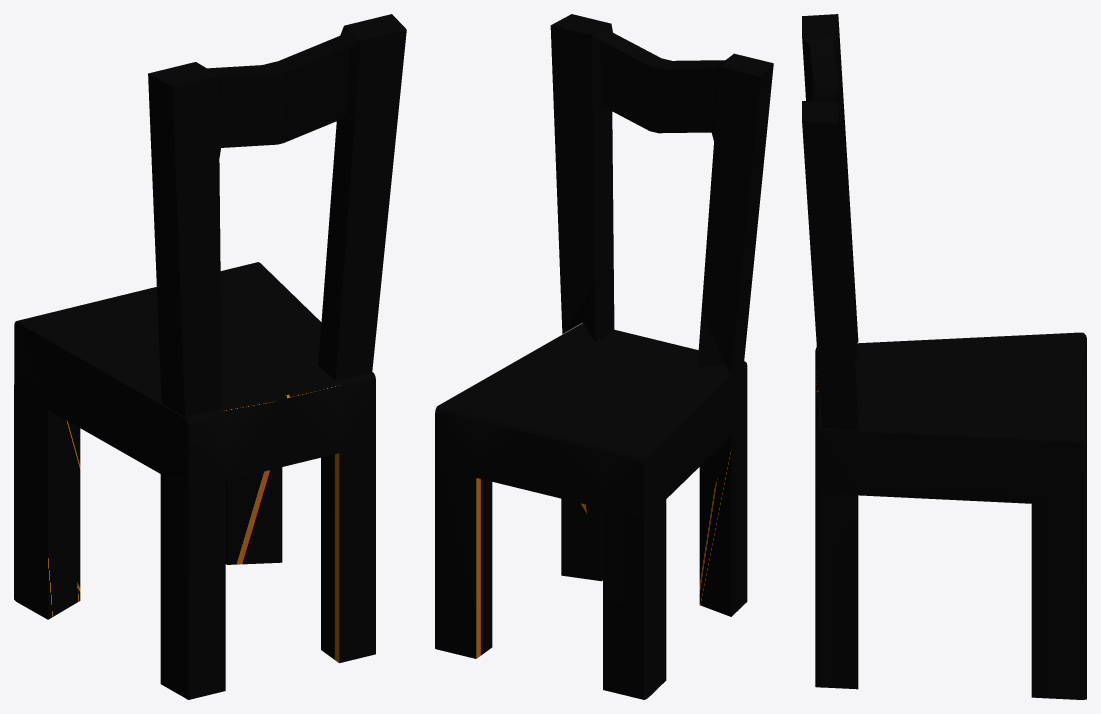
The model's file is Stuhl.fbx.
The picture shows the model from 3 angles, left to right: view 1: azimuth 30°, elevation 25°; view 2: azimuth 150°, elevation 25°; view 3: azimuth 270°, elevation 25°; orthographic projection. The views are drawn at different scales.
Visible parts, largest first — view 1: Stuhl_1; view 2: Stuhl_1; view 3: Stuhl_1.
Part boxes in pixels (x1=…): Stuhl_1: x1=14, y1=14, x2=406, y2=699; Stuhl_1: x1=435, y1=14, x2=773, y2=699; Stuhl_1: x1=802, y1=14, x2=1086, y2=699.
Size of the model in its own units: 62.43 by 152 by 68.23.
Materials: 1 (1 with a texture image).
